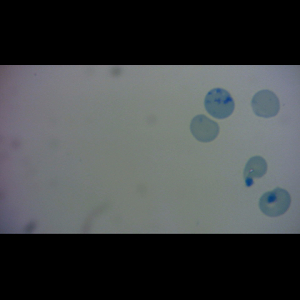aggregate reticulocyte: (203, 87, 236, 120)
erythrocyte: (257, 185, 293, 218), (241, 154, 270, 189)
punctate reticulocyte: (188, 113, 221, 144), (250, 88, 282, 119)
